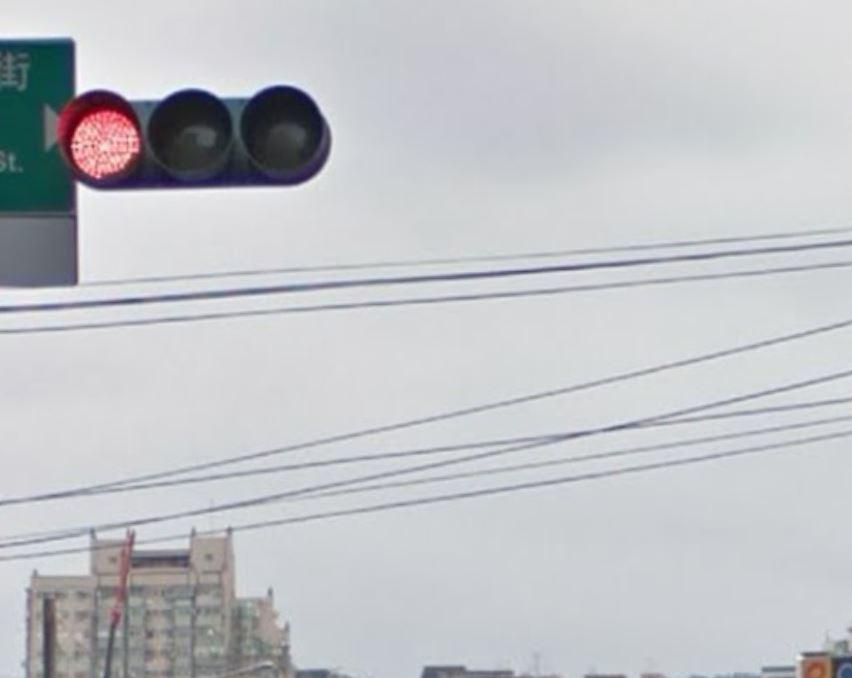red_traffic_light: (55, 88, 332, 186)
